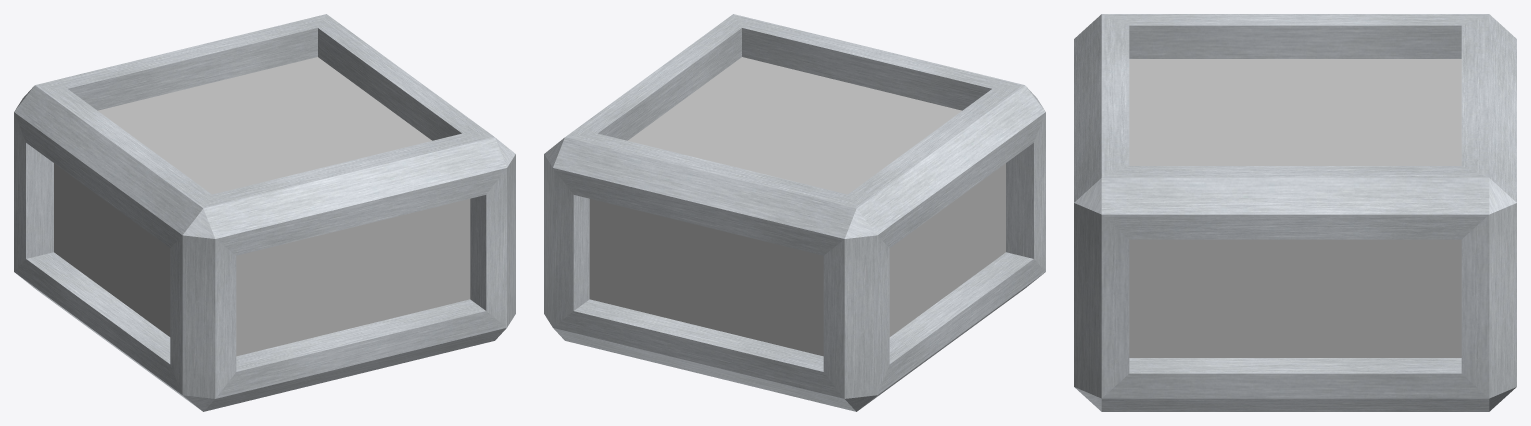
File: 2x2_platform.obj
The picture shows the model from 3 angles, left to right: view 1: azimuth 30°, elevation 25°; view 2: azimuth 150°, elevation 25°; view 3: azimuth 270°, elevation 25°; orthographic projection. The views are drawn at different scales.
Visible parts, largest first — view 1: pCube3, pCube4; view 2: pCube3, pCube4; view 3: pCube3, pCube4.
Boxes of the visible parts, <box> form: pCube3: <box>14,14,515,411</box>; pCube4: <box>54,57,470,356</box>; pCube3: <box>544,14,1045,411</box>; pCube4: <box>589,57,1005,356</box>; pCube3: <box>1074,14,1516,411</box>; pCube4: <box>1129,59,1461,357</box>.
Size of the model in its own units: 2.4 by 1.4 by 2.4.
